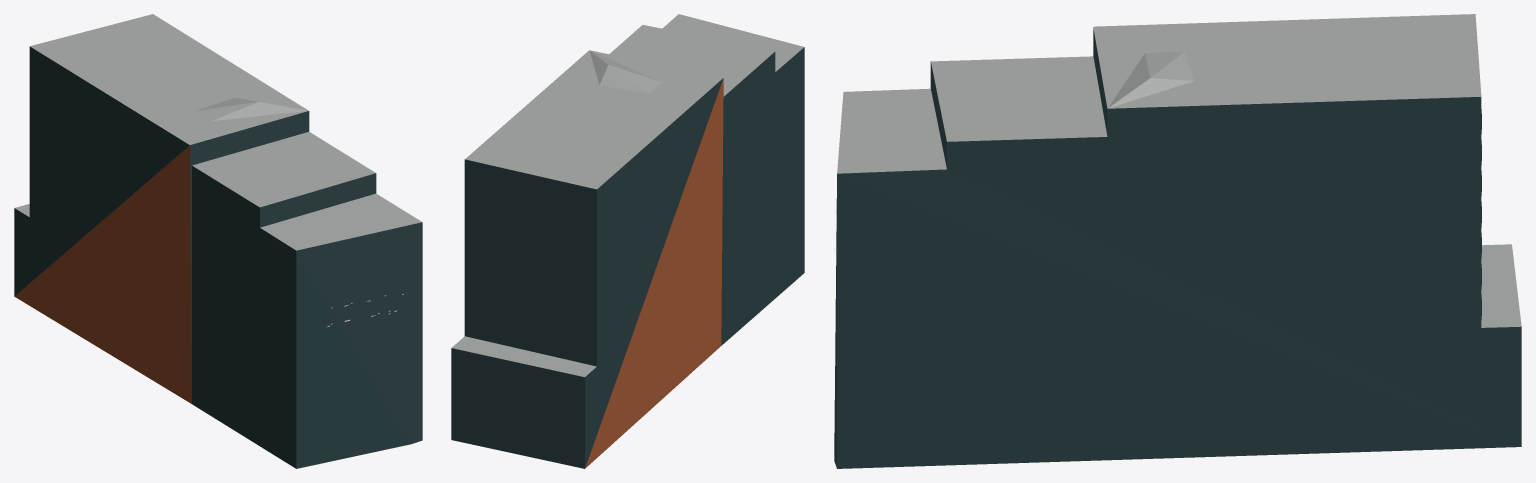
Rendered from conservatorium-van-amsterdam.lod2.glb.
3 views of the same model, side by side, from view 1: azimuth 30°, elevation 25°; view 2: azimuth 150°, elevation 25°; view 3: azimuth 270°, elevation 25° (orthographic). The views are drawn at different scales.
Parts seen in each view (by area): view 1: lod2; view 2: lod2; view 3: lod2.
Boxes of the visible parts, x1,y1,x2,y2 form: lod2: [14, 14, 422, 468]; lod2: [451, 14, 804, 468]; lod2: [834, 14, 1521, 468].
Size of the model in its own units: 27.59 by 44.1 by 76.57.
